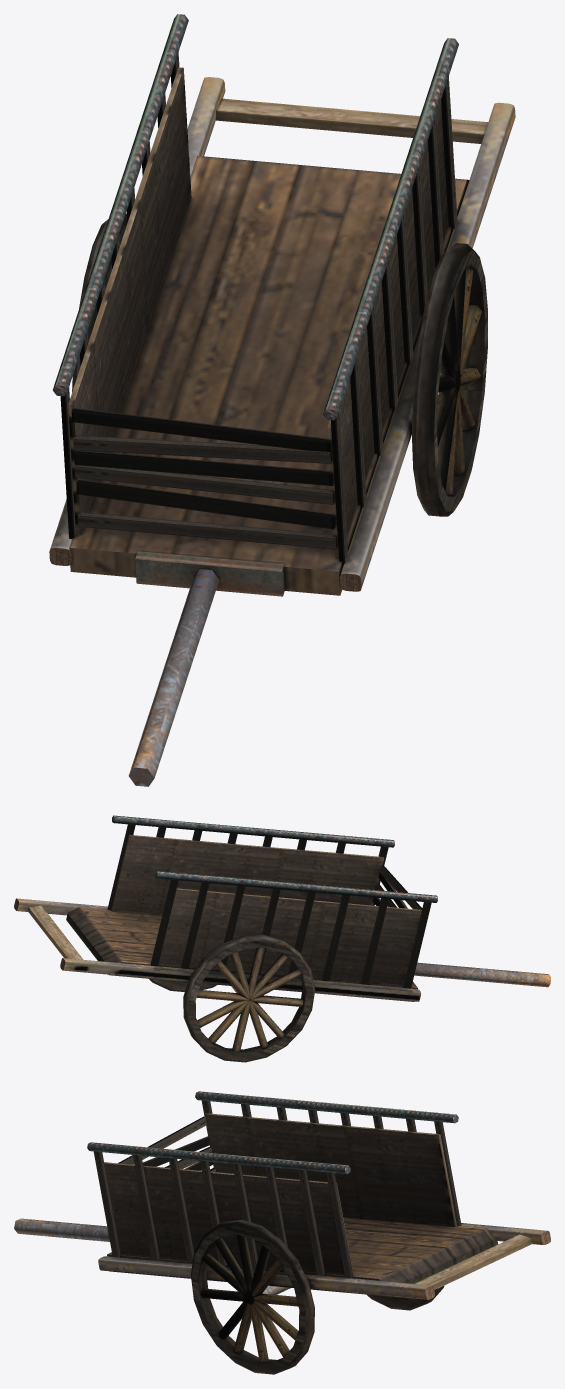
File: carrosinvolcar.fbx
The picture shows the model from 3 angles, top to bottom: view 1: azimuth 30°, elevation 25°; view 2: azimuth 150°, elevation 25°; view 3: azimuth 270°, elevation 25°; orthographic projection. The views are drawn at different scales.
Parts seen in each view (by area): view 1: Box001.003; view 2: Box001.003; view 3: Box001.003.
Boxes of the visible parts, <box> form: Box001.003: <box>49,14,515,786</box>; Box001.003: <box>14,815,550,1062</box>; Box001.003: <box>14,1091,550,1374</box>.
Bounding box in the file's own units: 257 × 134 × 279.
